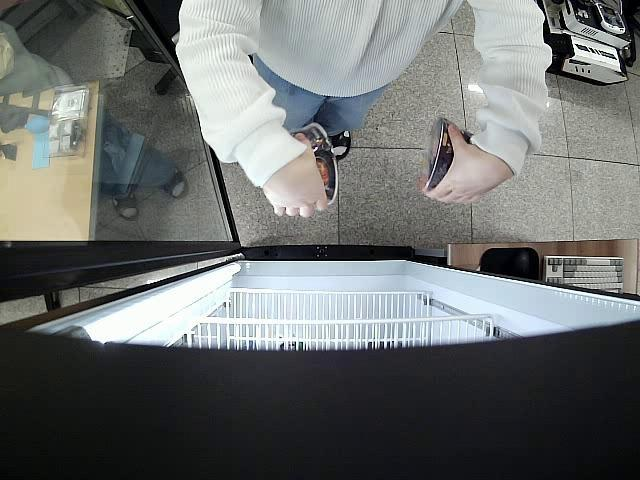07_buldak_L: (292, 123, 341, 210), (422, 116, 474, 190)
